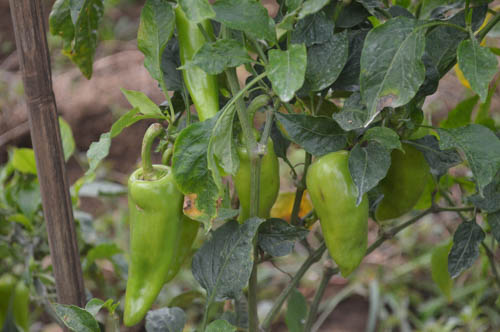ChiliPepper: (122, 163, 181, 319), (303, 153, 365, 283), (177, 7, 221, 135), (234, 131, 271, 231), (383, 146, 425, 221)
